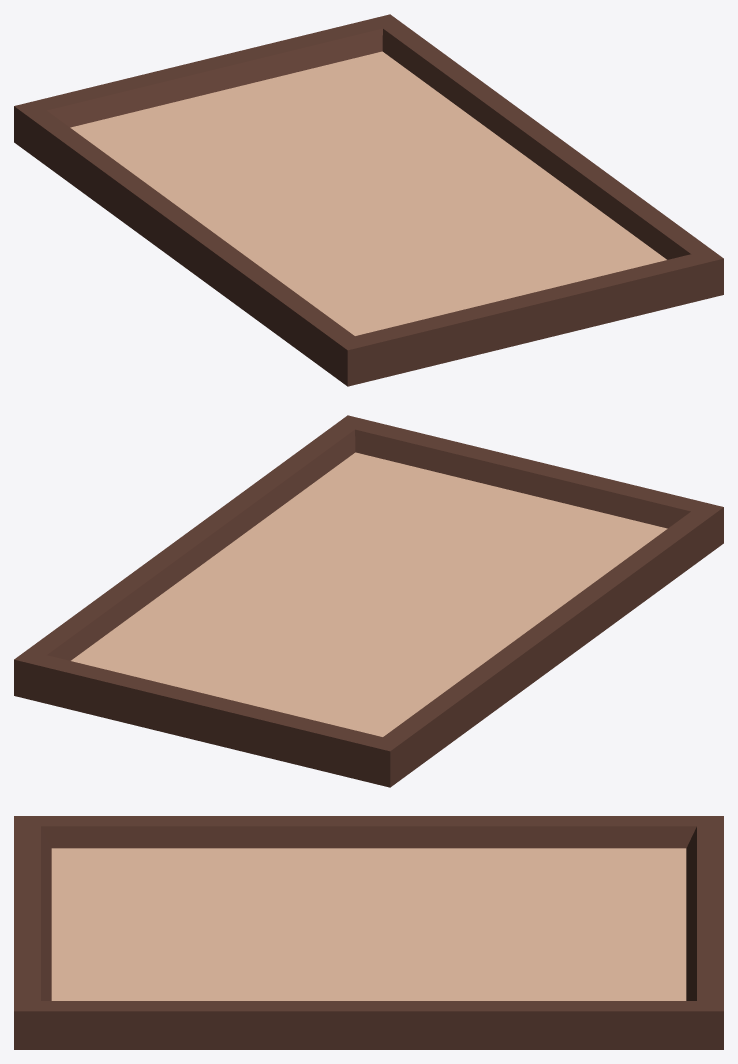
Rendered from Paintings.fbx.
3 views of the same model, one above another, from view 1: azimuth 30°, elevation 25°; view 2: azimuth 150°, elevation 25°; view 3: azimuth 270°, elevation 25° (orthographic). The views are drawn at different scales.
Visible parts, largest first — view 1: Cube; view 2: Cube; view 3: Cube.
Part boxes in pixels (bbox=[...]): Cube: bbox=[14, 14, 723, 386]; Cube: bbox=[14, 415, 723, 787]; Cube: bbox=[14, 816, 723, 1049].
Bounding box in the file's own units: 78.91 × 7.27 × 121.
